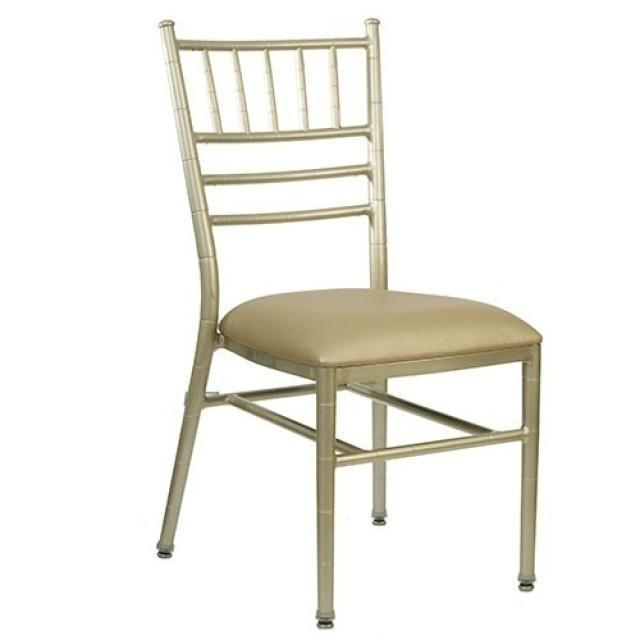chair: (154, 16, 546, 630)
